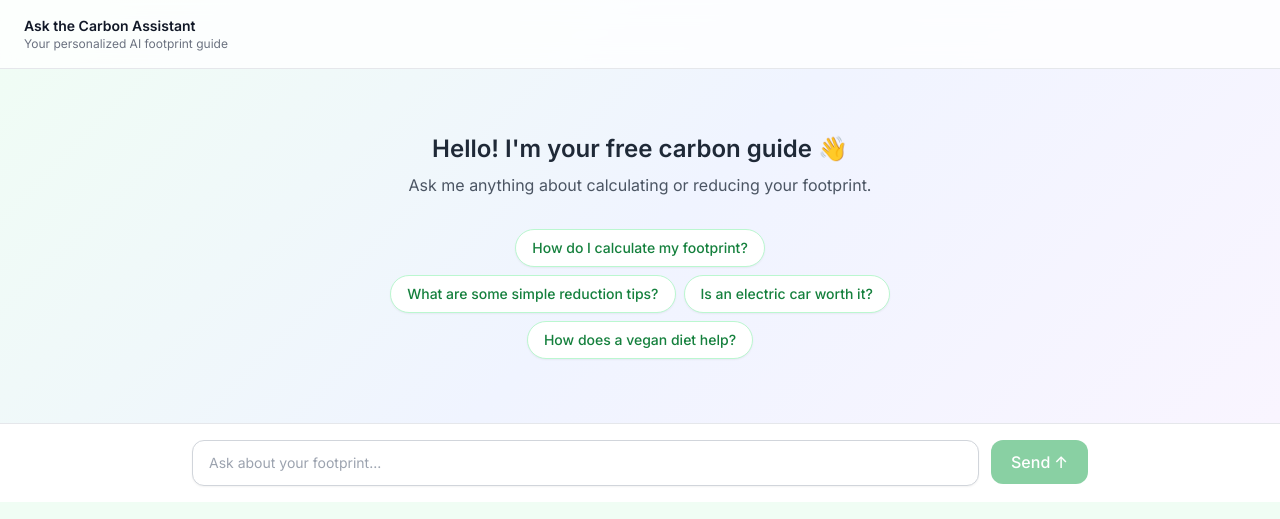
Test: ChatView › send button enables when user types
In the text box named "your question": (586, 463) [192,440,979,486], type "how to reduce impact?"
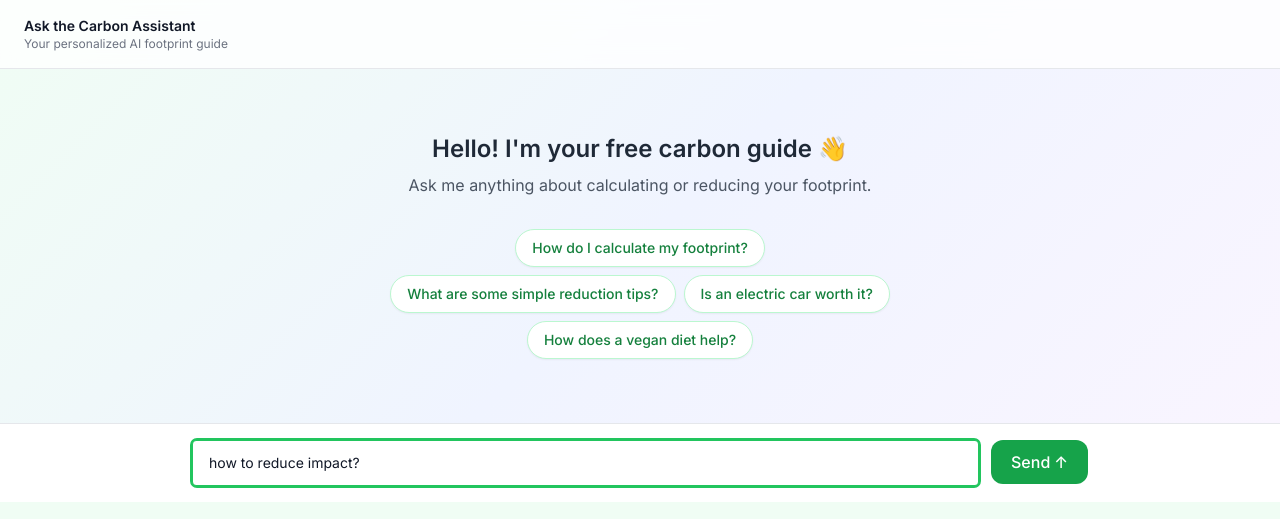
Expected: the button with aria-label "send message" is enabled, [991,440,1088,484]
